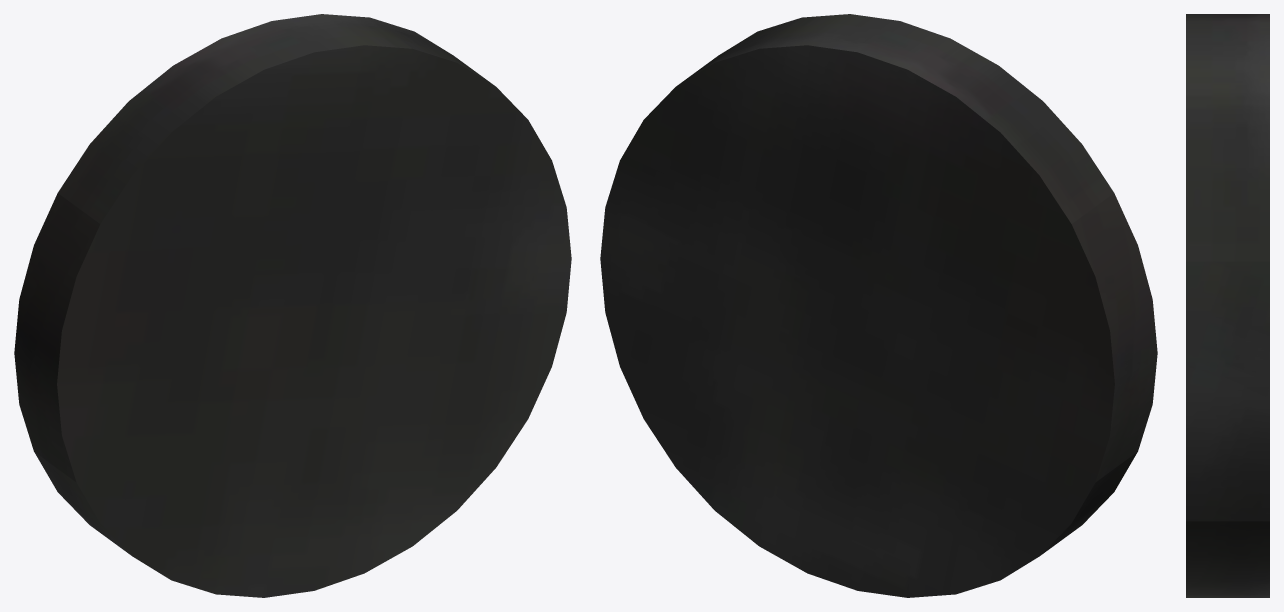
Rendered from fan_button__button_icon.glb.
3 renders of one model, left to right at view 1: azimuth 30°, elevation 25°; view 2: azimuth 150°, elevation 25°; view 3: azimuth 270°, elevation 25°, orthographic.
Parts seen in each view (by area): view 1: geometry_0; view 2: geometry_0; view 3: geometry_0.
Part boxes in pixels (x1,y1,x2,y2): geometry_0: [14, 14, 571, 597]; geometry_0: [600, 14, 1157, 597]; geometry_0: [1186, 14, 1269, 597].
Bounding box in the file's own units: 0.0139 × 0.0139 × 0.002.
1 material, 1 textured.
